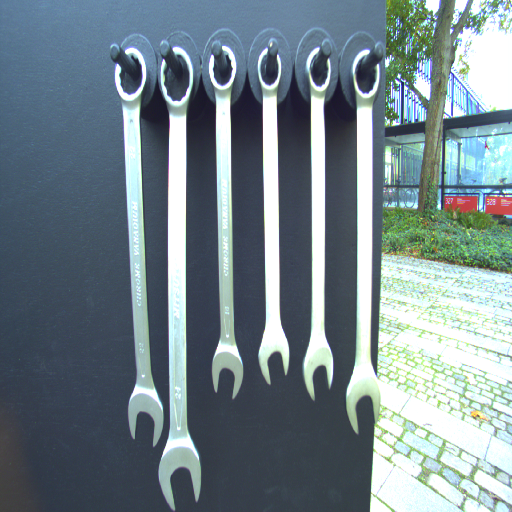bottom: (157, 436, 203, 511), (343, 366, 383, 437), (126, 383, 165, 448), (209, 340, 247, 400), (301, 344, 337, 404), (257, 324, 290, 386)
top: (159, 47, 196, 111), (113, 45, 149, 106), (350, 47, 382, 103), (304, 46, 333, 100), (207, 45, 237, 96), (254, 46, 284, 93)
